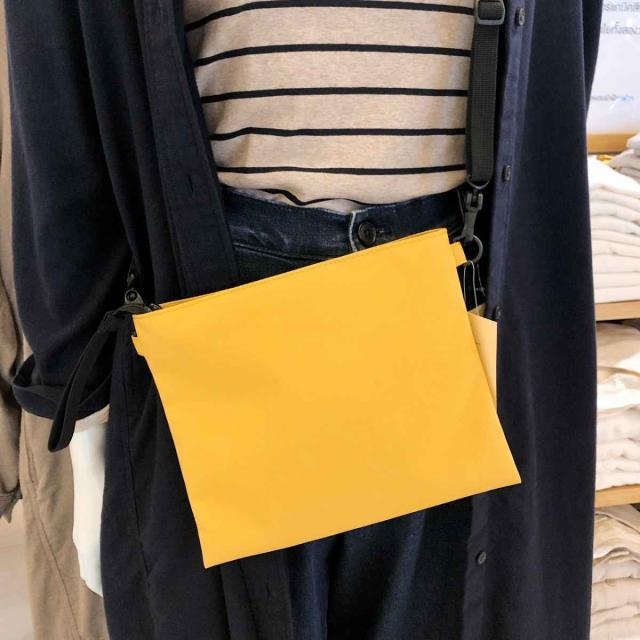handbag: (115, 182, 520, 592)
